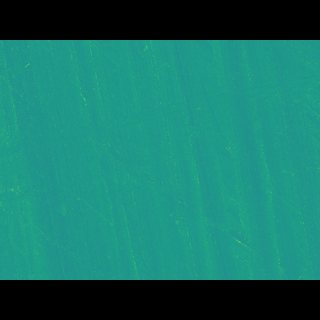Loch: (0, 88, 320, 161), (166, 70, 239, 250)
